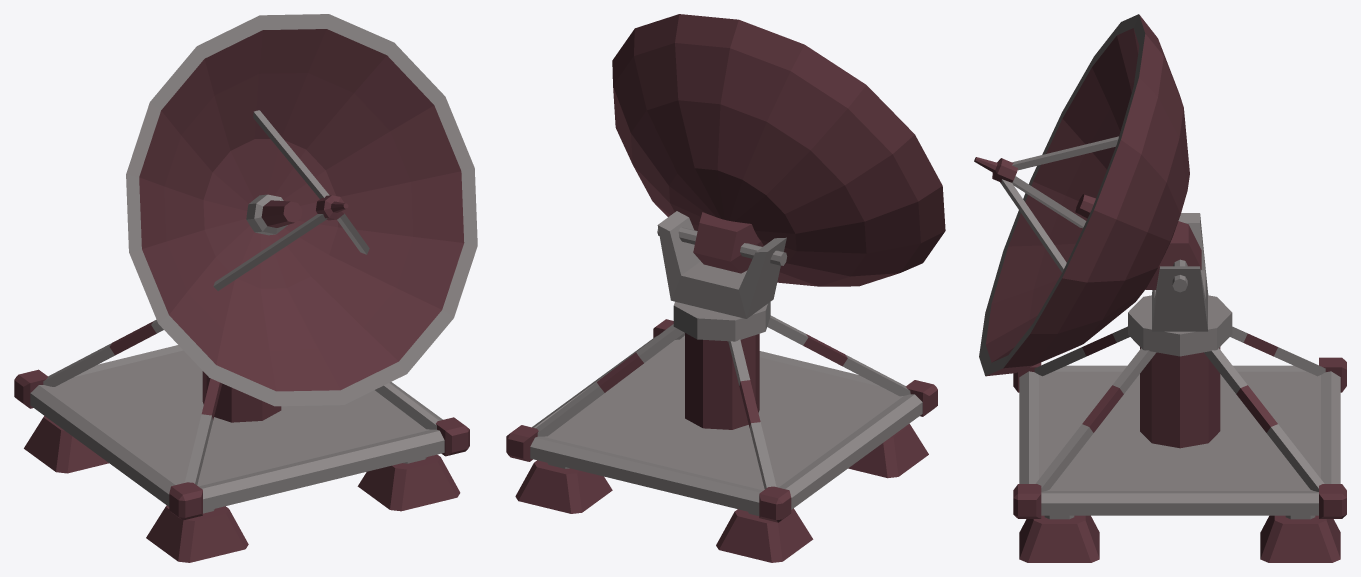
Rendered from scifi-satelit-big.fbx.
3 renders of one model, left to right at view 1: azimuth 30°, elevation 25°; view 2: azimuth 150°, elevation 25°; view 3: azimuth 270°, elevation 25°, orthographic. The views are drawn at different scales.
Visible parts, largest first — view 1: scifi-satelit-big-head, scifi-satelit-big-base; view 2: scifi-satelit-big-base, scifi-satelit-big-head; view 3: scifi-satelit-big-base, scifi-satelit-big-head.
Part boxes in pixels (x1,y1,x2,y2): scifi-satelit-big-head: (126, 14, 477, 406); scifi-satelit-big-base: (14, 319, 469, 562); scifi-satelit-big-base: (506, 211, 937, 562); scifi-satelit-big-head: (612, 14, 945, 286); scifi-satelit-big-base: (1013, 213, 1346, 562); scifi-satelit-big-head: (974, 14, 1201, 376).
Size of the model in its own units: 9.8 by 12.68 by 9.28.
